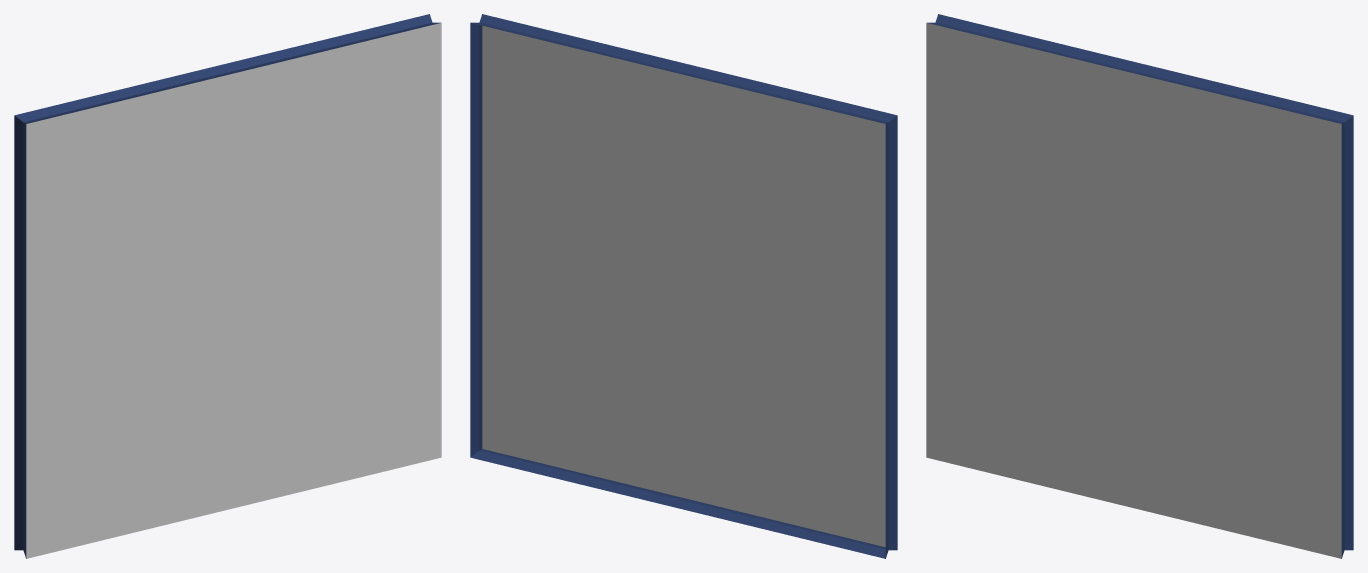
File: BasicPoster.fbx
The picture shows the model from 3 angles, left to right: view 1: azimuth 30°, elevation 25°; view 2: azimuth 150°, elevation 25°; view 3: azimuth 330°, elevation 25°; orthographic projection.
Visible parts, largest first — view 1: Cube.012; view 2: Cube.012; view 3: Cube.012.
Part boxes in pixels (x1=…): Cube.012: x1=14, y1=14, x2=441, y2=558; Cube.012: x1=470, y1=14, x2=897, y2=558; Cube.012: x1=926, y1=14, x2=1353, y2=558.
Size of the model in its own units: 200 by 200 by 9.97.
